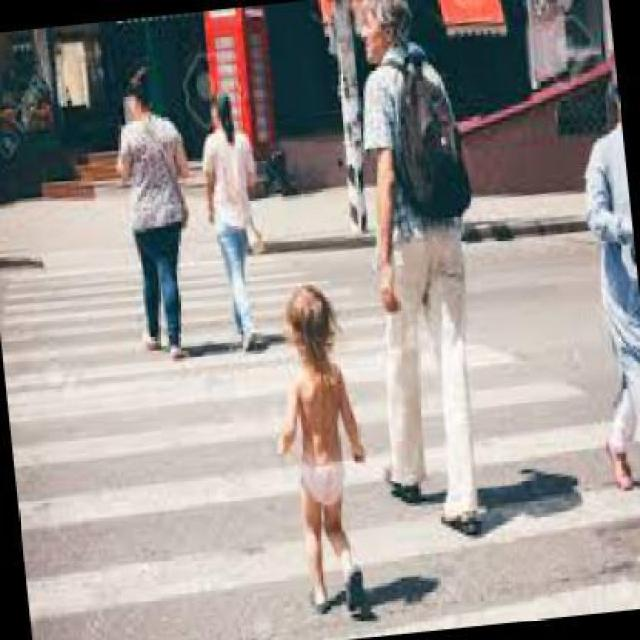Person: (337, 0, 506, 546), (265, 284, 380, 614), (106, 65, 209, 363), (194, 87, 275, 355)
